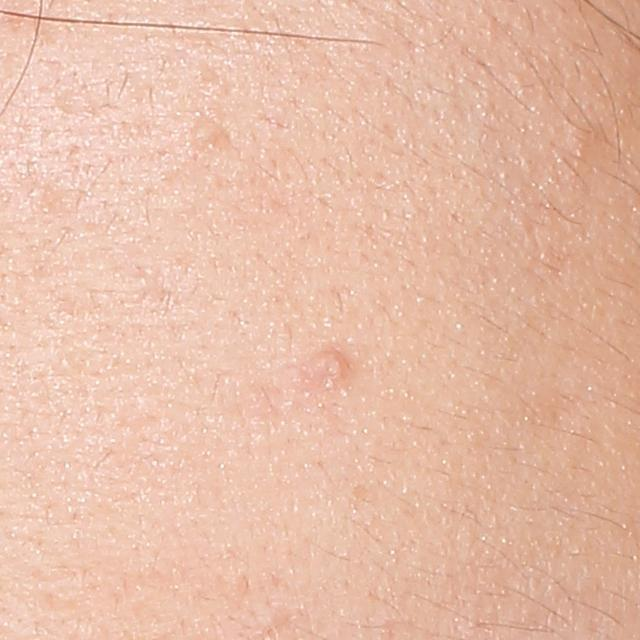papule: (309, 346, 354, 389)
